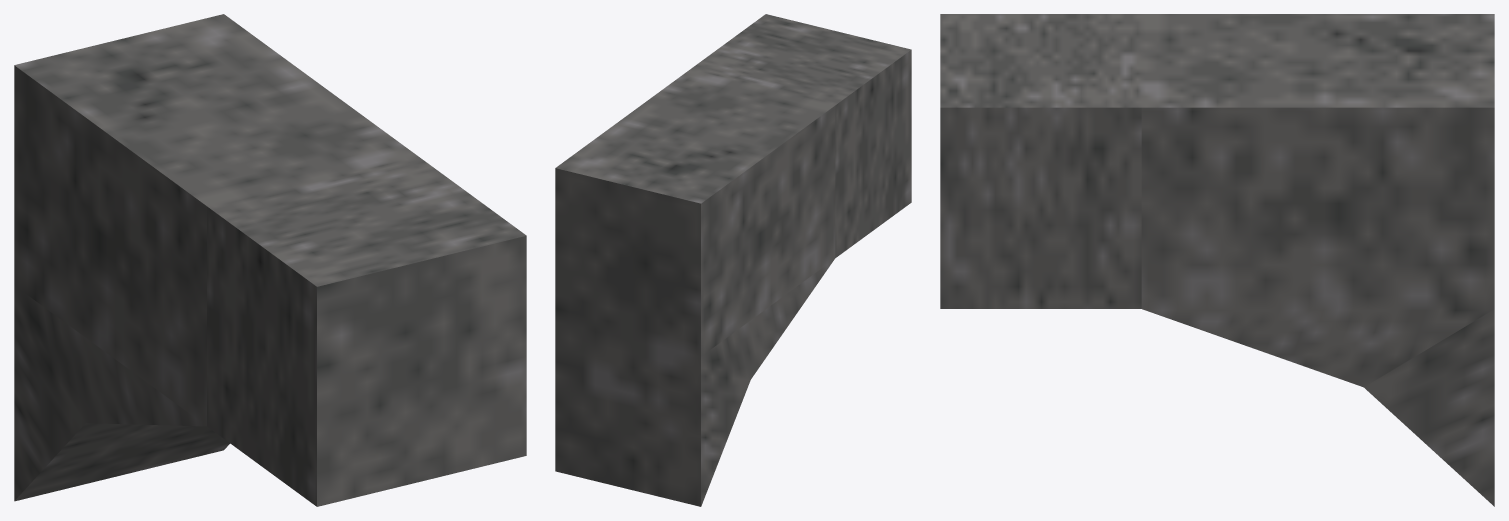
The model's file is SM_Dungeon_Pillar_Arch_Singular.fbx.
3 views of the same model, side by side, from view 1: azimuth 30°, elevation 25°; view 2: azimuth 150°, elevation 25°; view 3: azimuth 270°, elevation 25° (orthographic). The views are drawn at different scales.
Parts seen in each view (by area): view 1: SM_Dungeon_Pillar_Arch_Singular; view 2: SM_Dungeon_Pillar_Arch_Singular; view 3: SM_Dungeon_Pillar_Arch_Singular.
Part boxes in pixels (left/top/right/bottom): SM_Dungeon_Pillar_Arch_Singular: left=14, top=14, right=526, bottom=506; SM_Dungeon_Pillar_Arch_Singular: left=555, top=14, right=911, bottom=506; SM_Dungeon_Pillar_Arch_Singular: left=940, top=14, right=1494, bottom=506.
Bounding box in the file's own units: 50 × 99.4 × 125.
